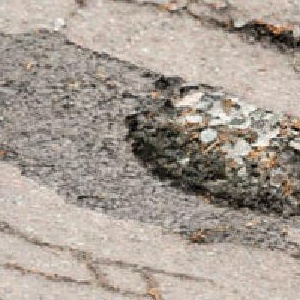pothole: (120, 74, 299, 220), (234, 17, 300, 54)
